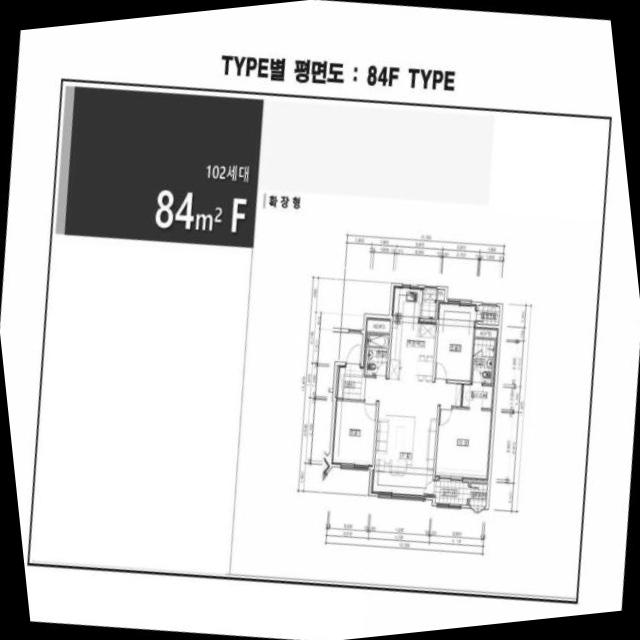background: (0, 0, 640, 640)
space_balconi: (433, 480, 467, 504), (421, 288, 436, 318)
space_bedroom: (434, 407, 491, 480), (434, 302, 476, 380), (331, 400, 375, 466)
space_dressroom: (461, 384, 493, 408)
space_front: (334, 364, 365, 400)
space_kitchen: (388, 285, 435, 381)
space_living_room: (363, 376, 461, 496)
space_other: (469, 482, 486, 506), (365, 317, 389, 332), (474, 326, 497, 338), (437, 289, 444, 300)
space_outdoor_room: (476, 304, 499, 324)
space_toilet: (471, 338, 494, 383), (364, 332, 388, 375)
